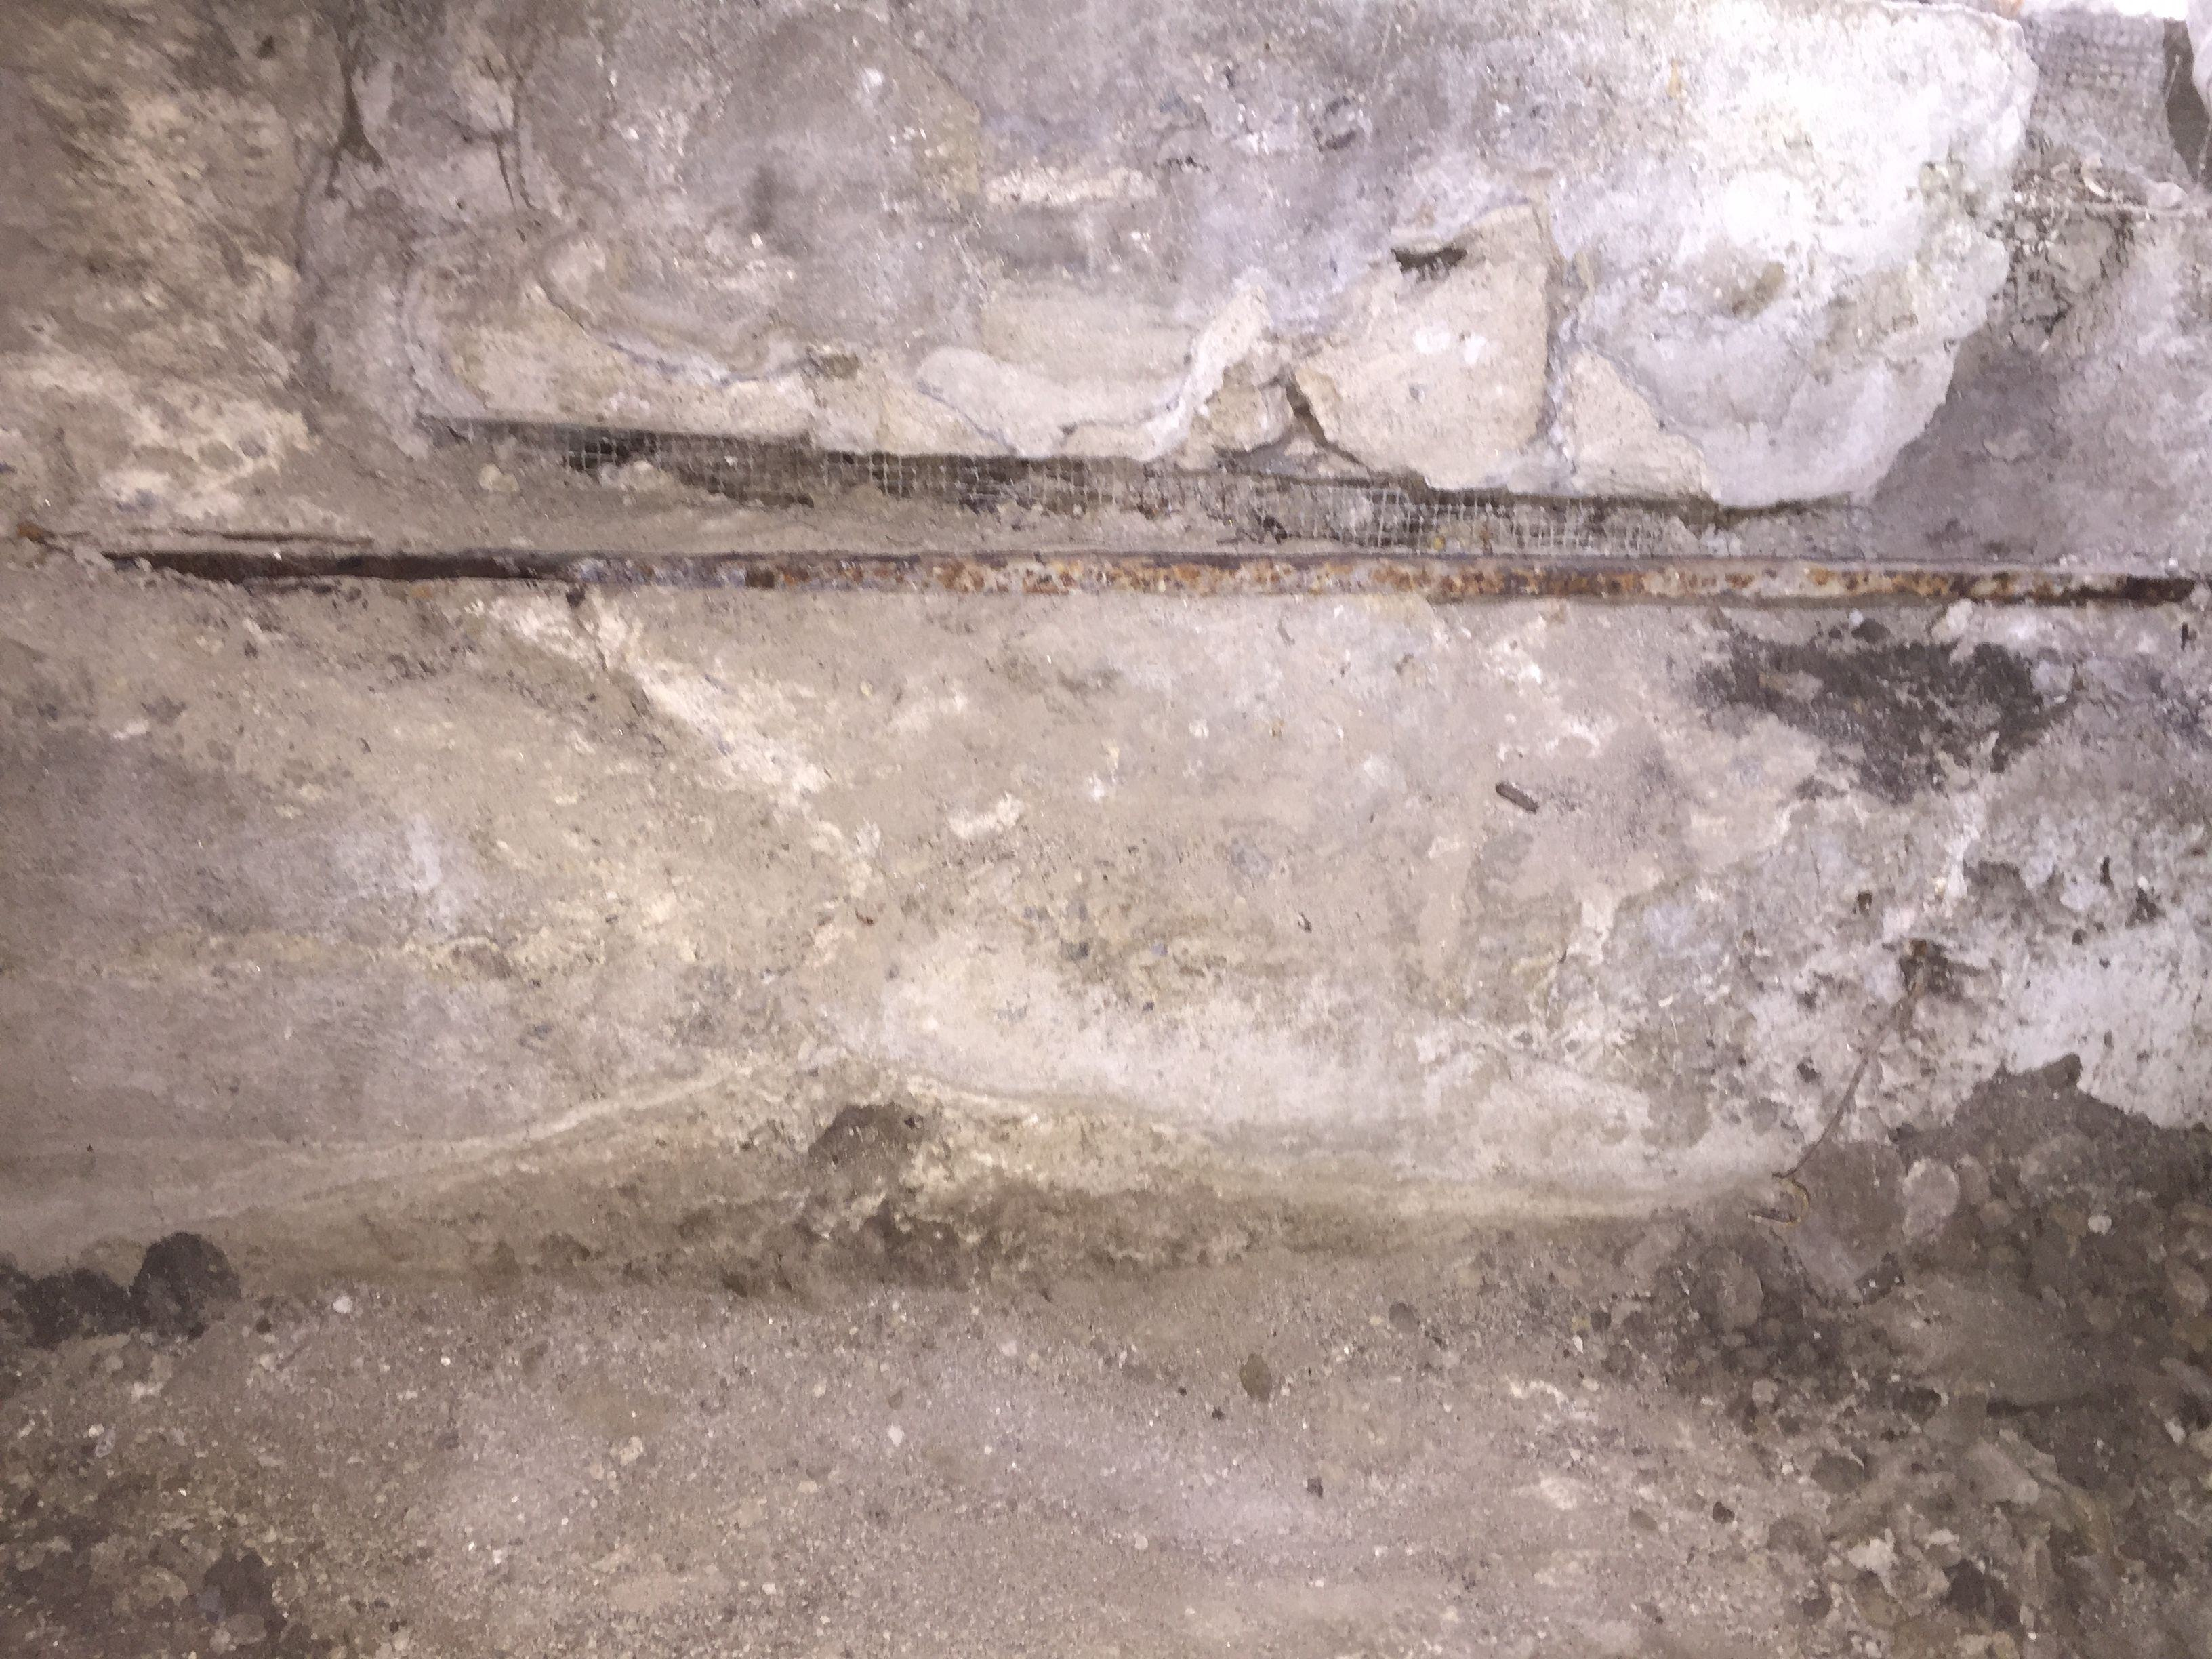Exposed reinforcement: (94, 545, 2212, 613)
